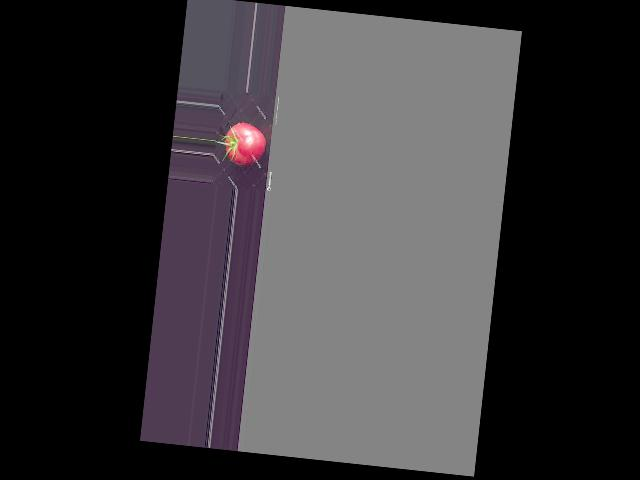tomato: (223, 120, 267, 167)
